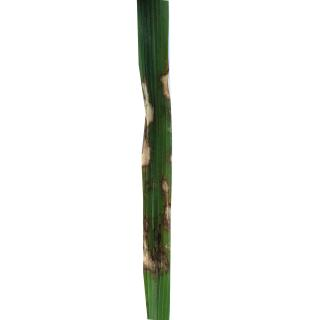Hawar-Daun: (142, 226, 167, 282), (139, 84, 161, 132), (157, 180, 173, 232), (152, 65, 174, 101), (140, 137, 159, 171)
